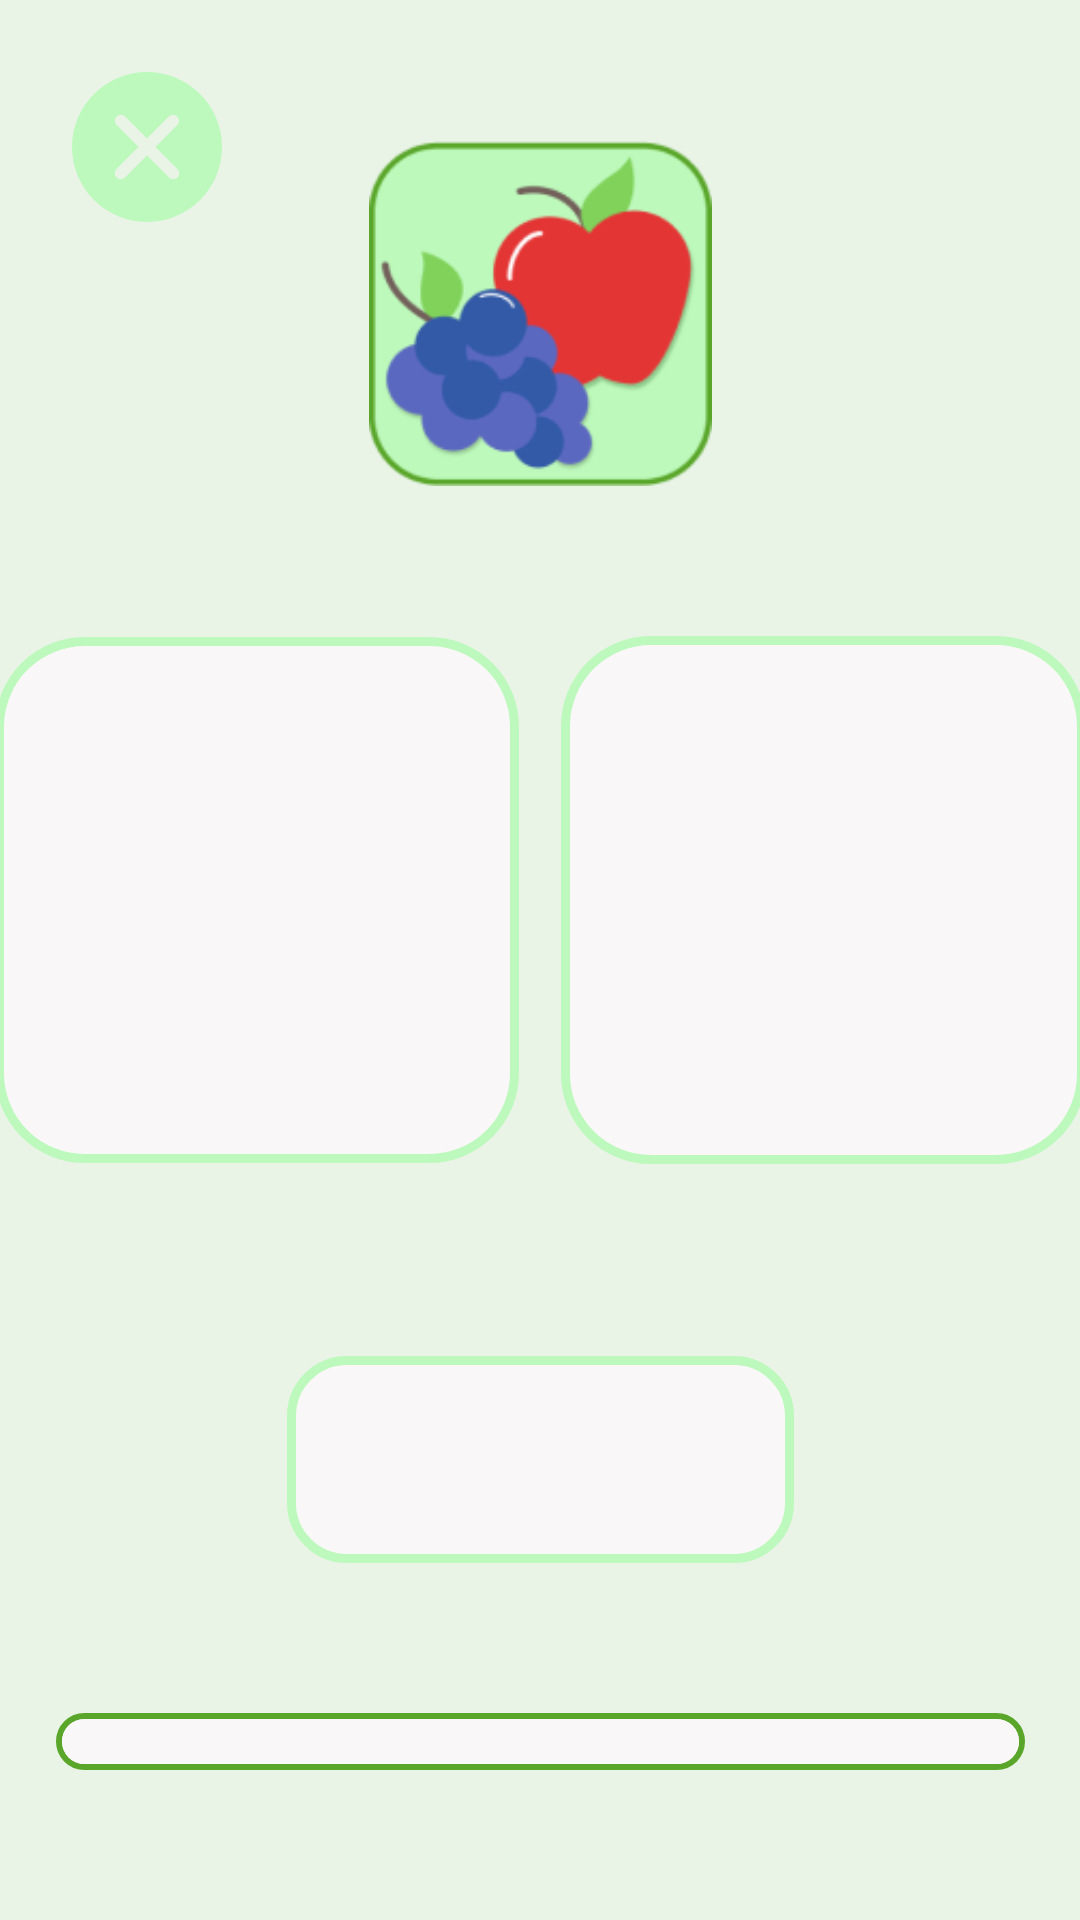

Where icons sit on this 1080x1920 app screen, as (x1, y1, x2, y2):
foodgameexit: (72, 72, 222, 222)
foodgameicon: (369, 142, 712, 486)
